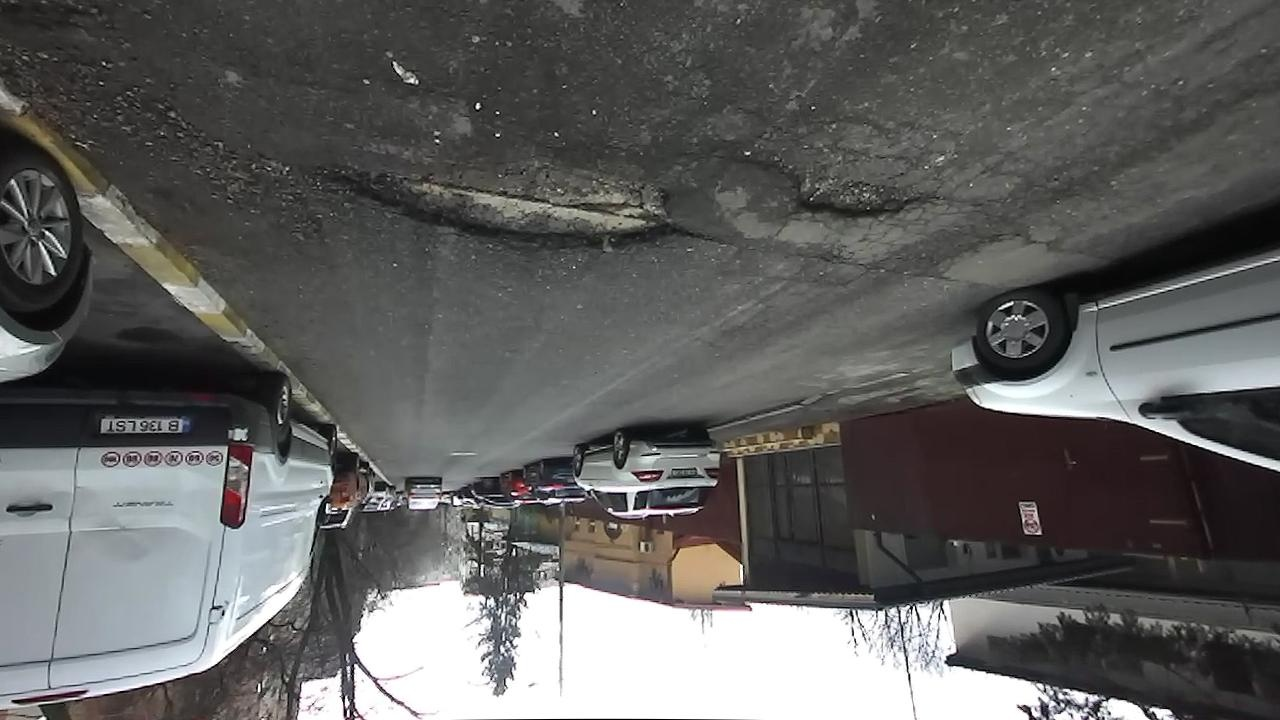pothole: (296, 141, 697, 254), (762, 159, 946, 227)
